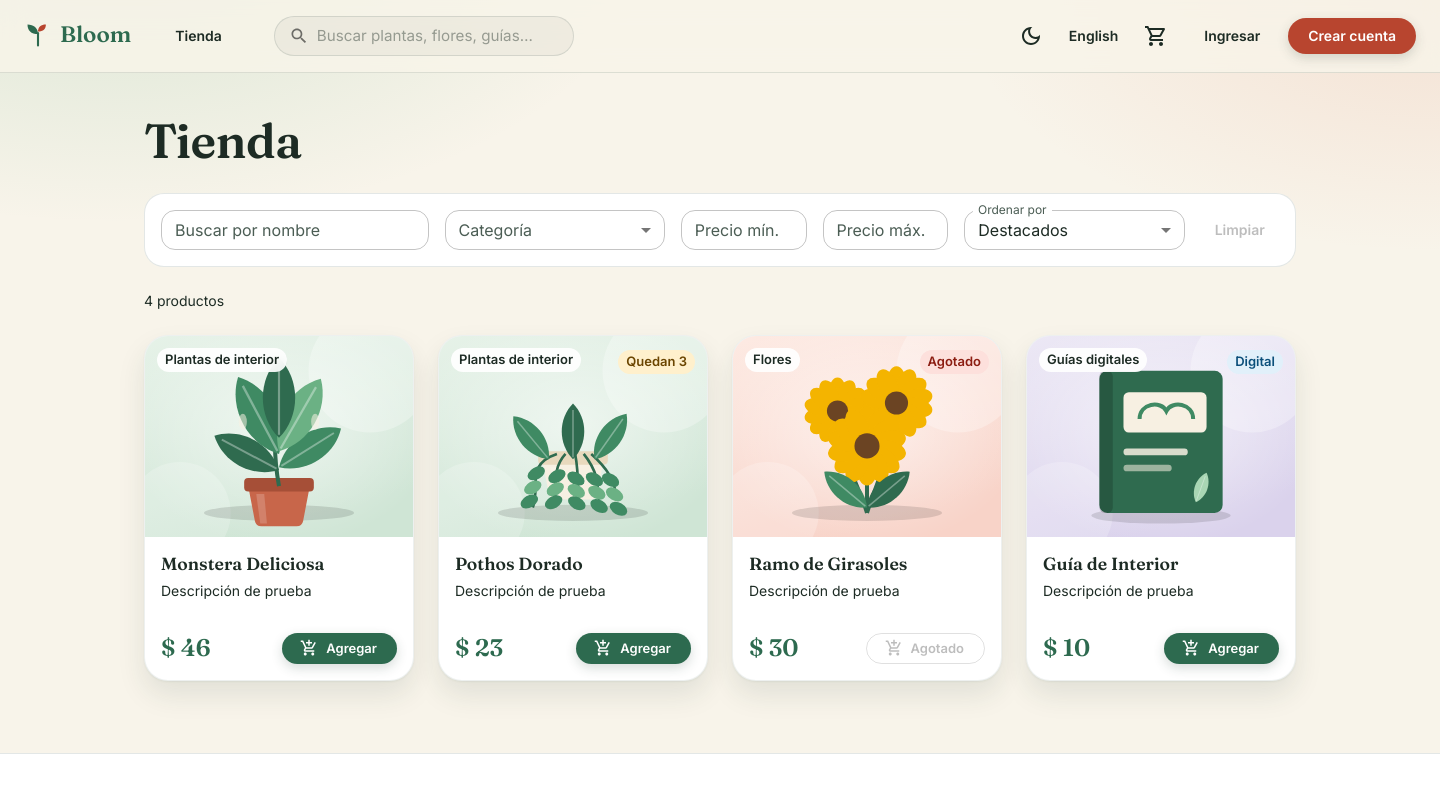
adding to the cart › should_add_from_a_product_card
Click the button with aria-label "Agregar Pothos Dorado al carrito" at (634, 648), box [576,633,691,664]
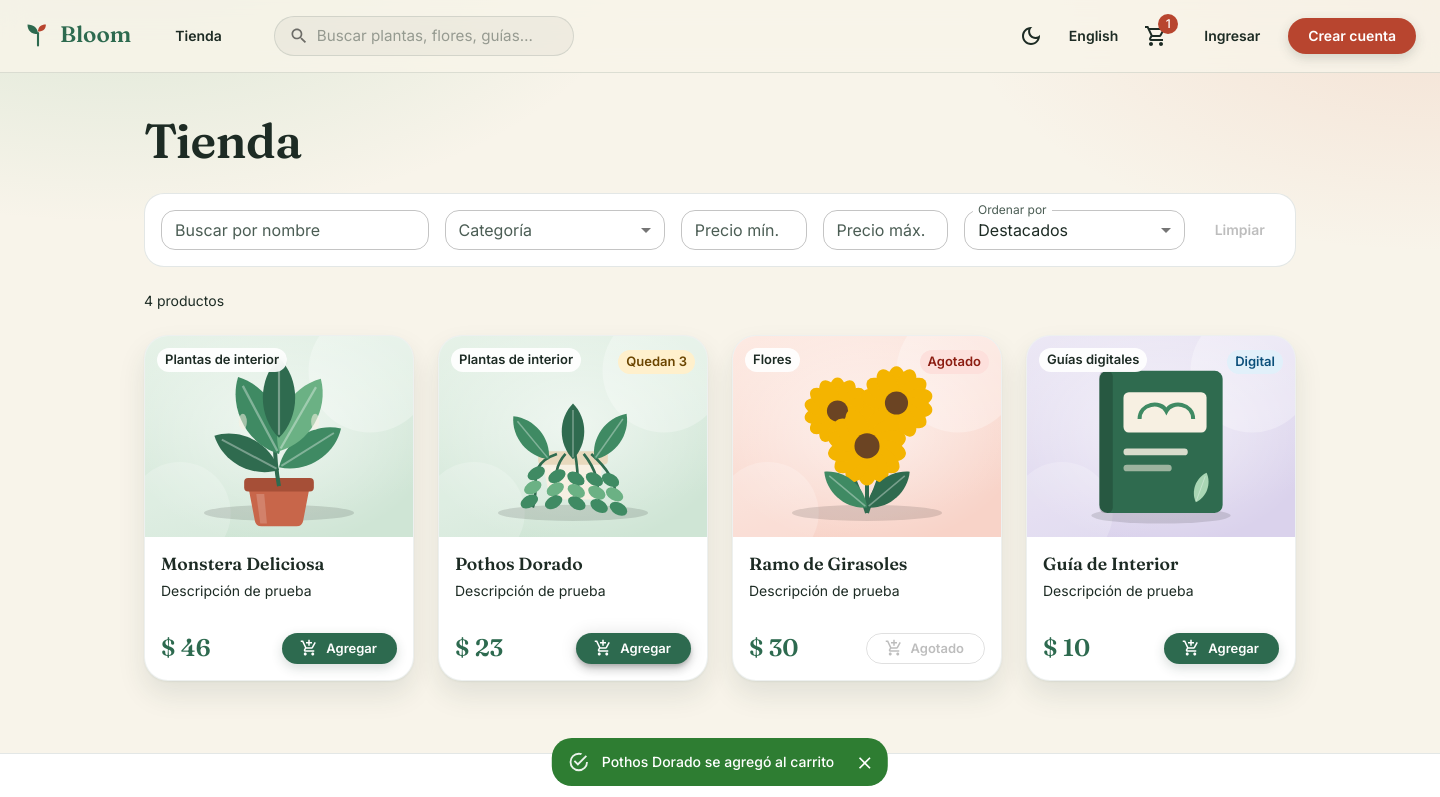
Expected: the link named "Carrito, 1 artículo" is shown, [1136,16,1176,56]
